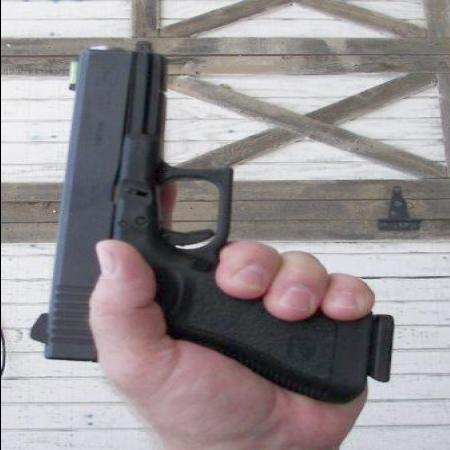Pistol: (28, 36, 394, 400)
